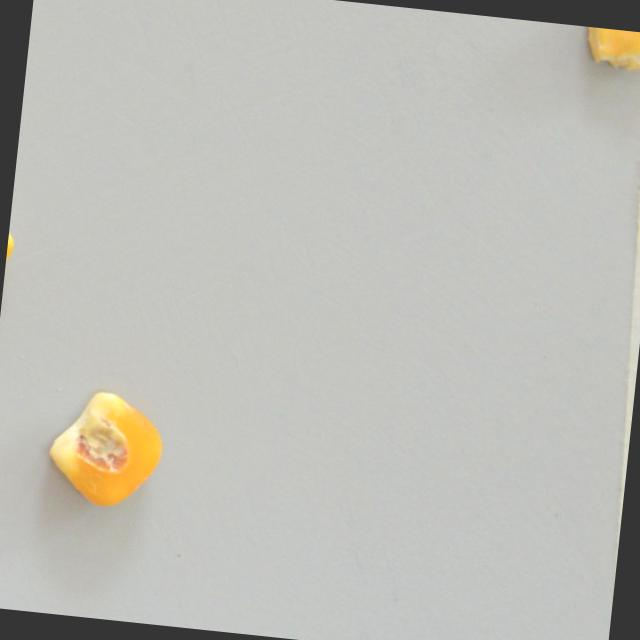dañado: (38, 383, 170, 516)
pelicula: (580, 26, 640, 73)
